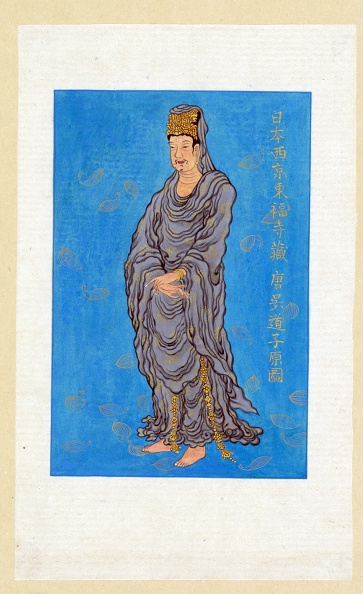em pe: (129, 105, 228, 422)
